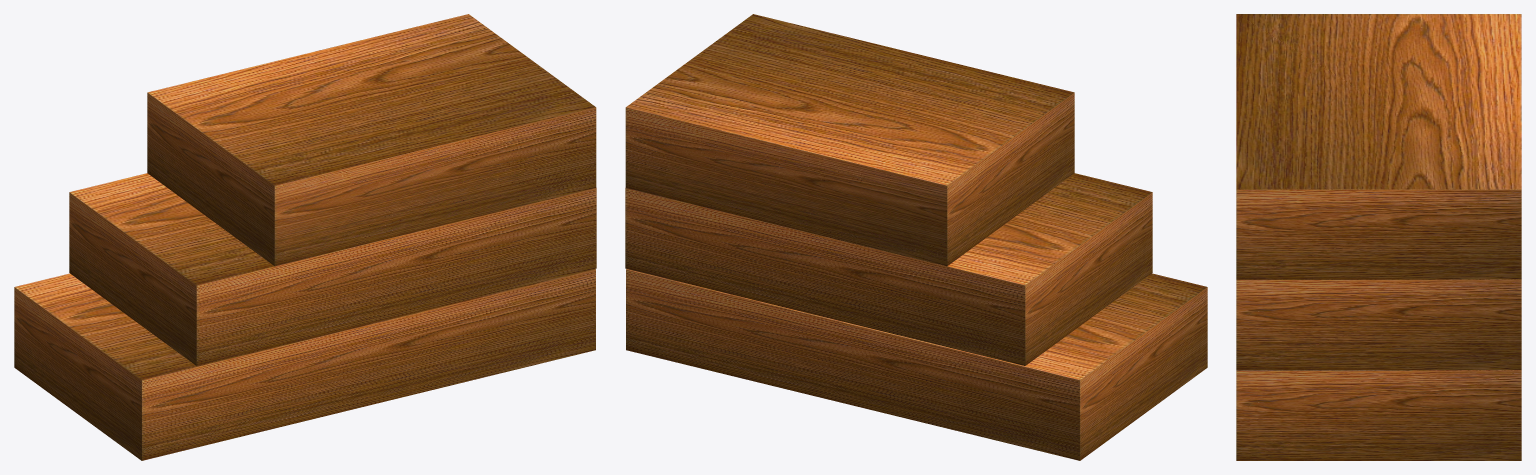
The model's file is kaidan.fbx.
3 renders of one model, left to right at view 1: azimuth 30°, elevation 25°; view 2: azimuth 150°, elevation 25°; view 3: azimuth 270°, elevation 25°, orthographic. The views are drawn at different scales.
Parts seen in each view (by area): view 1: Box003 (×2), Box001, Box002; view 2: Box003 (×2), Box001, Box002; view 3: Box003 (×2), Box002, Box001.
Part boxes in pixels (x1,y1,x2,y2): Box003 (×2): (147, 14, 596, 266); Box001: (14, 269, 595, 460); Box002: (69, 173, 596, 365); Box003 (×2): (625, 14, 1074, 266); Box001: (626, 269, 1207, 460); Box002: (625, 173, 1152, 365); Box003 (×2): (1236, 14, 1521, 279); Box002: (1236, 279, 1521, 370); Box001: (1236, 370, 1521, 460).
Bounding box in the file's own units: 138 × 70.15 × 66.81.
